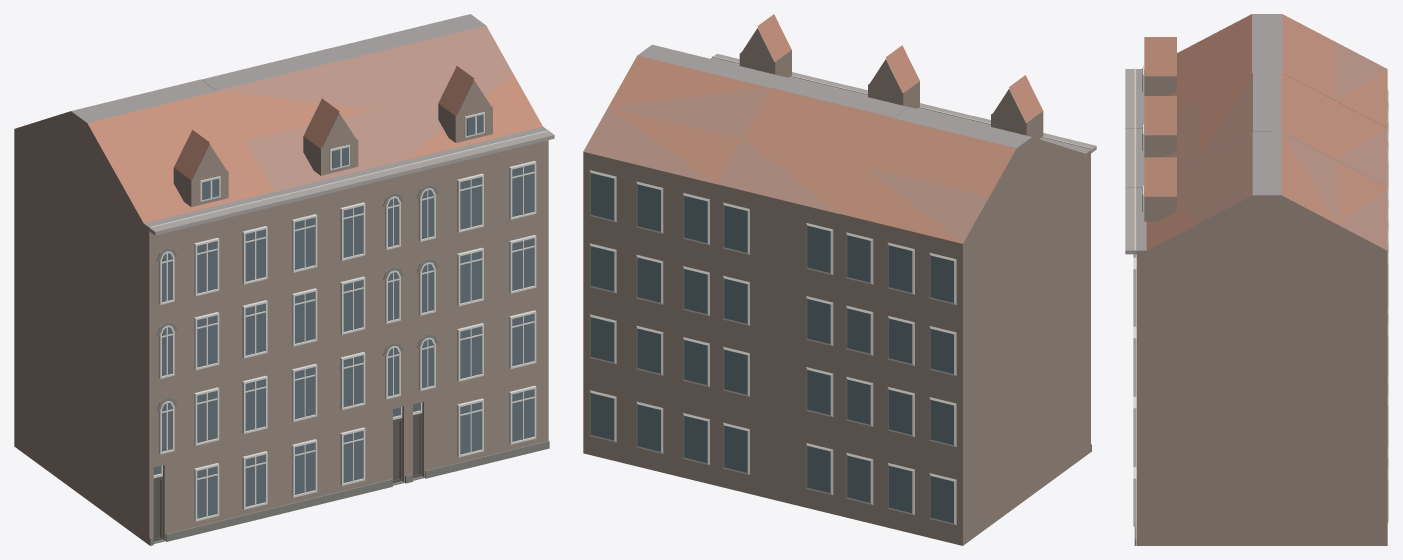
The model's file is chunk-face-soenda-2-36-r2.glb.
The picture shows the model from 3 angles, left to right: view 1: azimuth 30°, elevation 25°; view 2: azimuth 150°, elevation 25°; view 3: azimuth 270°, elevation 25°; orthographic projection. The views are drawn at different scales.
Parts seen in each view (by area): view 1: face-soenda-2-36-r2; view 2: face-soenda-2-36-r2; view 3: face-soenda-2-36-r2.
Boxes of the visible parts, <box> form: face-soenda-2-36-r2: <box>14,14,554,545</box>; face-soenda-2-36-r2: <box>583,14,1096,545</box>; face-soenda-2-36-r2: <box>1125,14,1388,545</box>.
Bounding box in the file's own units: 17.1 × 15.71 × 10.49.
